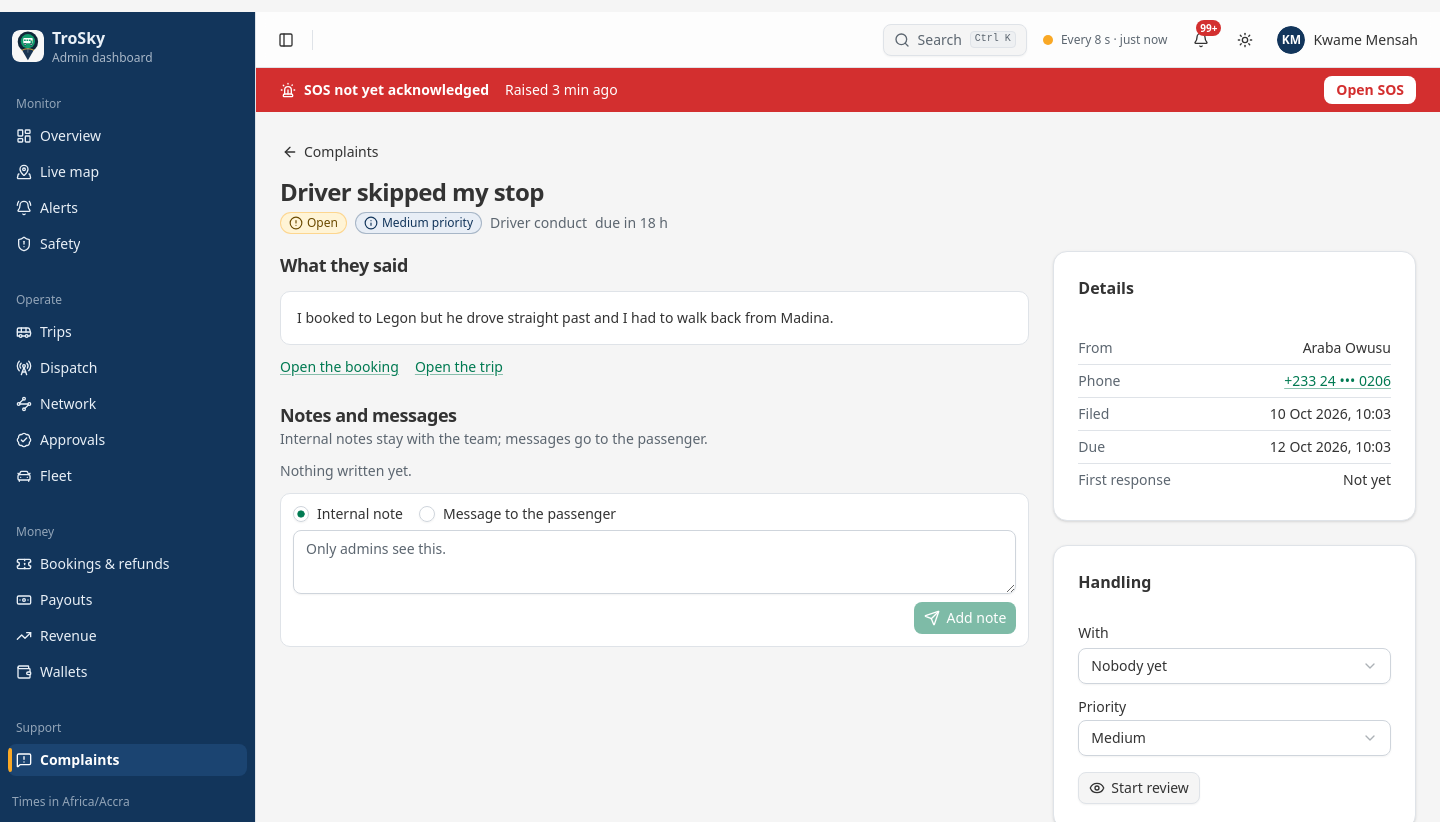
Test: Complaints › keep internal notes apart from messages to the passenger
The width and height of the screenshot is (1440, 822).
Type "Checked the trip log: the driver skipped Lapaz." into the text box named "Note" at (655, 562), box top-left (293, 530), bottom-right (1016, 594)
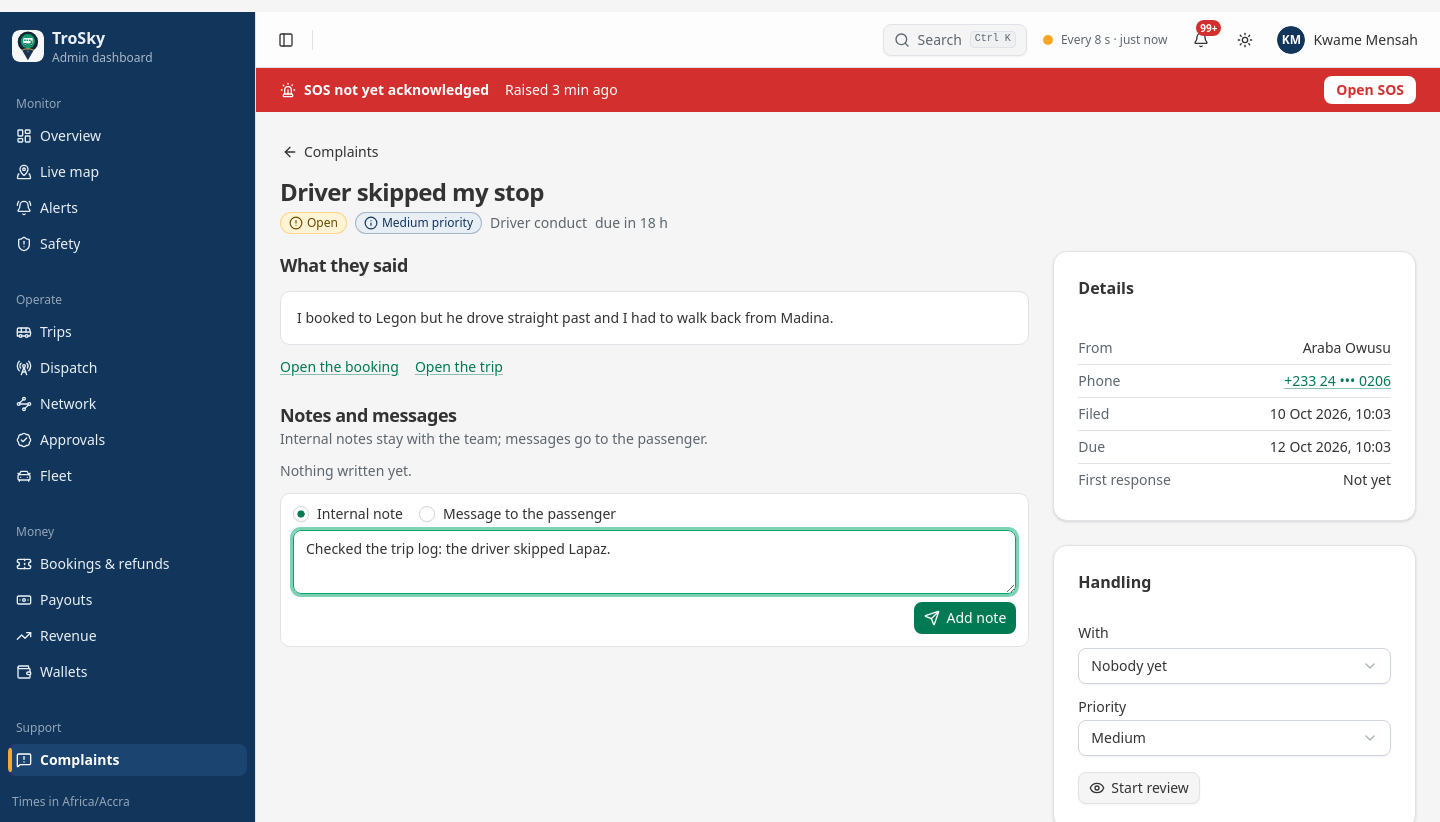
Click the button "Add note" at (965, 618), box top-left (914, 602), bottom-right (1016, 634)
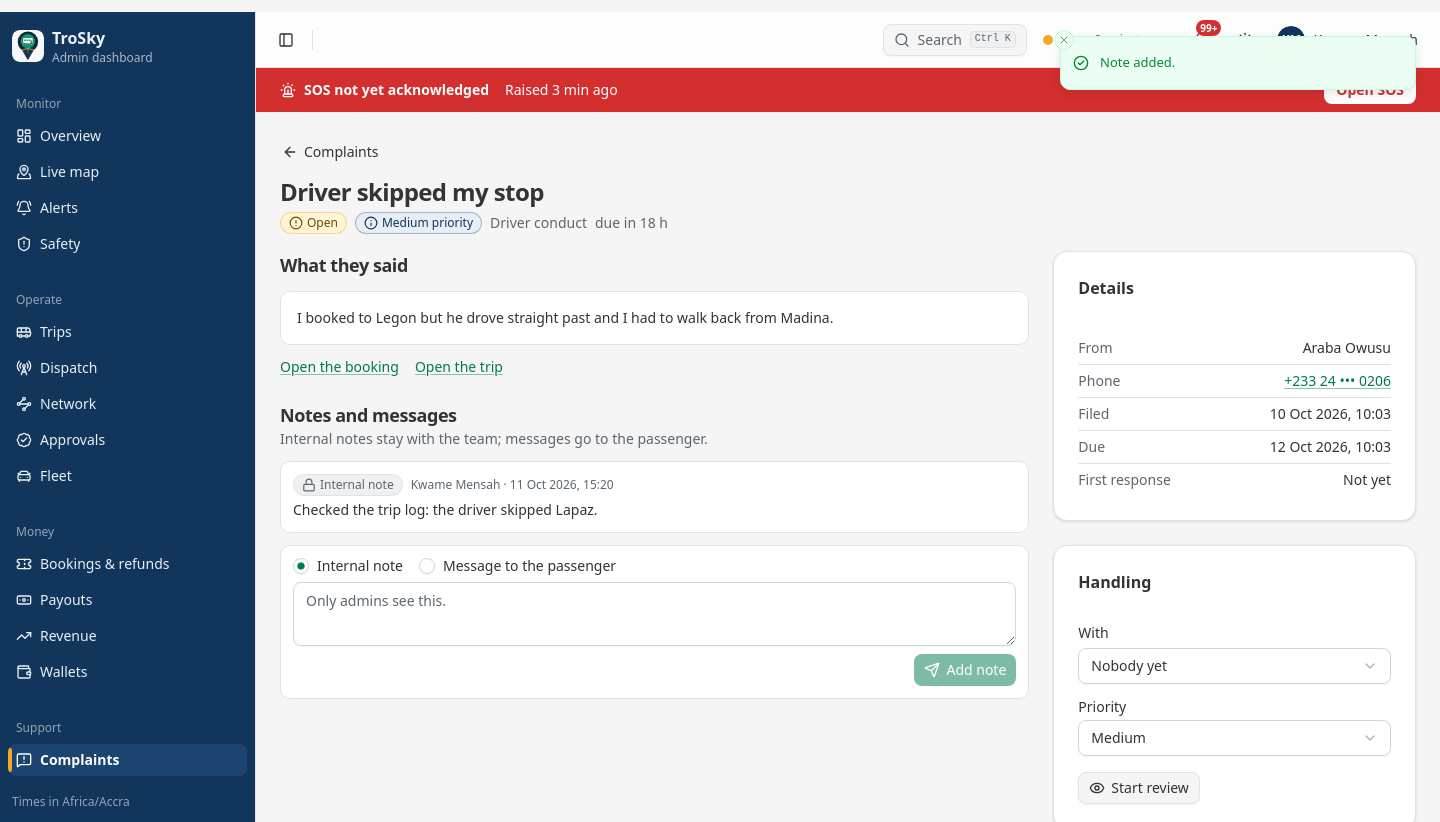
Expected: the text "Note added." is shown, top-left (1100, 53), bottom-right (1175, 72)
Click the radio button named "Message to the passenger" next to "Message to the passenger" at (427, 566), box top-left (419, 558), bottom-right (435, 574)
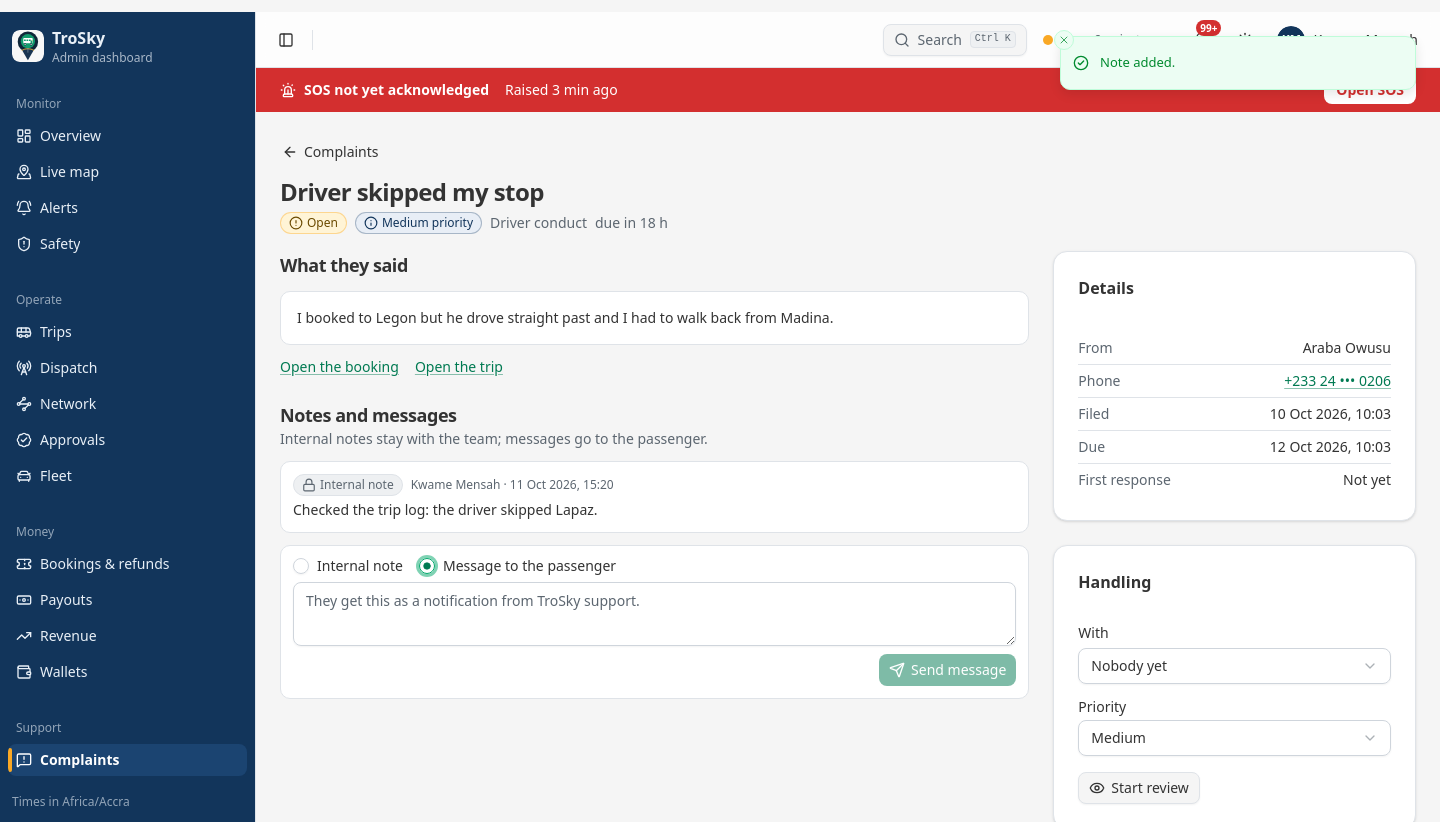
Type "Sorry about this. We have spoken to the driver." into the text box named "Message" at (655, 614), box top-left (293, 582), bottom-right (1016, 646)
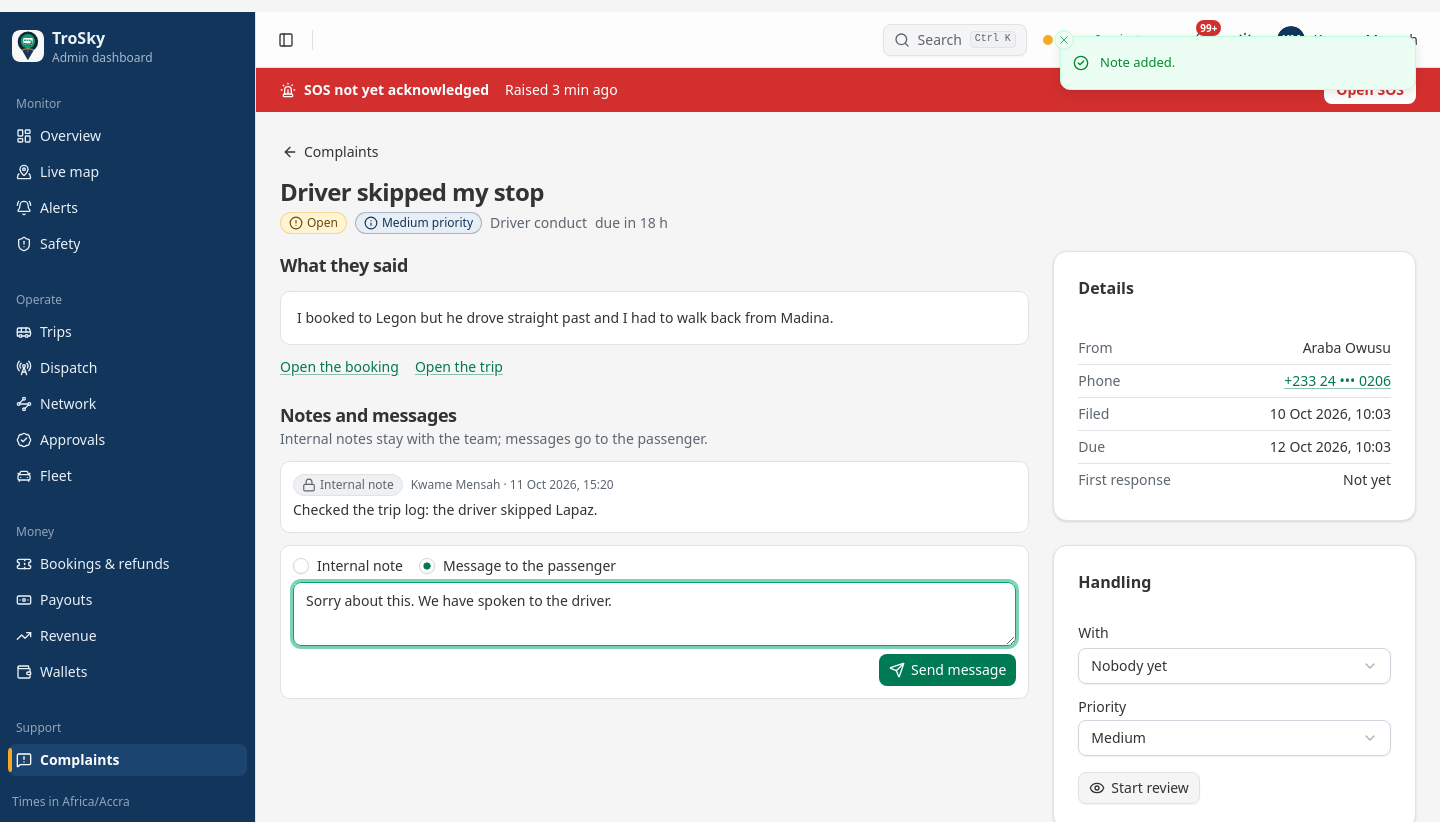
Click the button "Send message" at (948, 670), box top-left (879, 654), bottom-right (1016, 686)
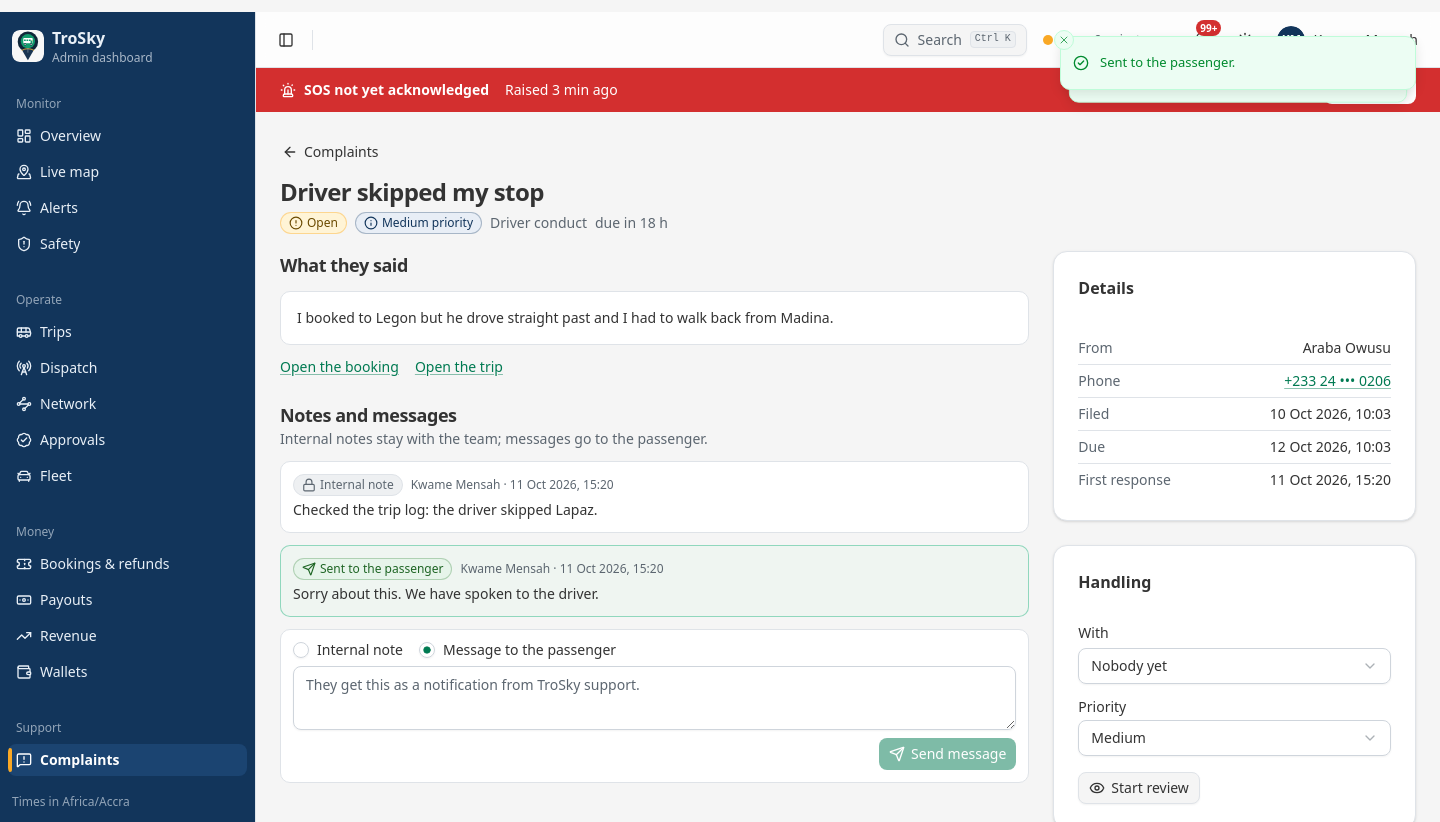
Expected: the list item that starts with "Internal note" is shown, top-left (320, 476), bottom-right (394, 493)
Expected: the text "Sent to the passenger." is shown, top-left (1100, 53), bottom-right (1235, 72)
Expected: the text "Sent to the passenger" is shown, top-left (320, 560), bottom-right (444, 577)
